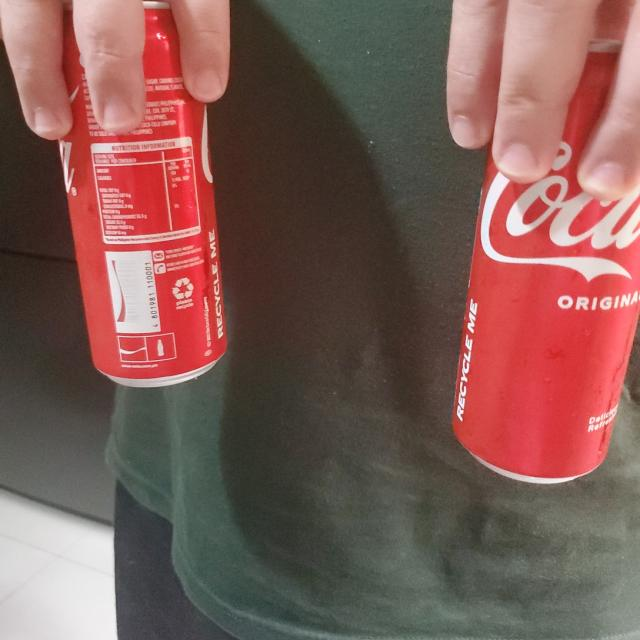coke: (453, 41, 640, 480), (53, 0, 226, 381)
